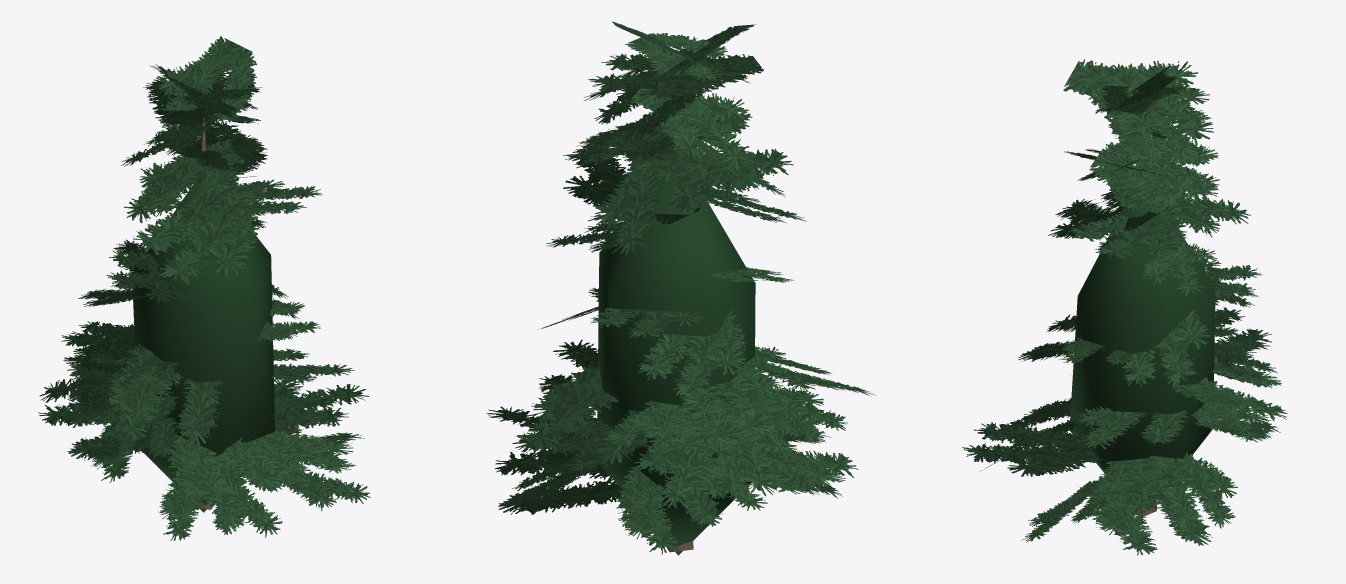
Rendered from TAXUS_2.glb.
3 renders of one model, left to right at view 1: azimuth 30°, elevation 25°; view 2: azimuth 150°, elevation 25°; view 3: azimuth 270°, elevation 25°, orthographic. The views are drawn at different scales.
Parts seen in each view (by area): view 1: Arv_TAXUS_lod2; view 2: Arv_TAXUS_lod2; view 3: Arv_TAXUS_lod2.
Part boxes in pixels (x1,y1,x2,y2): Arv_TAXUS_lod2: [38, 36, 370, 540]; Arv_TAXUS_lod2: [486, 21, 875, 555]; Arv_TAXUS_lod2: [962, 59, 1287, 555].
Size of the model in its own units: 8.96 by 11.09 by 8.55.
3 materials, 1 textured.
